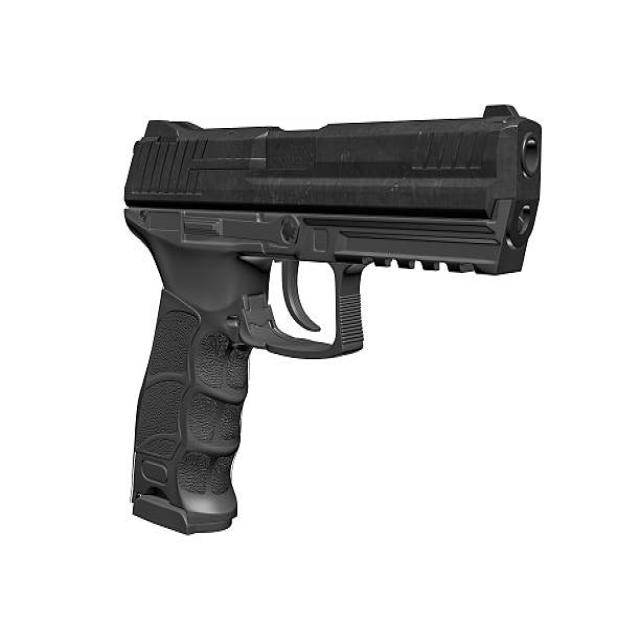pistol: (114, 97, 561, 550)
